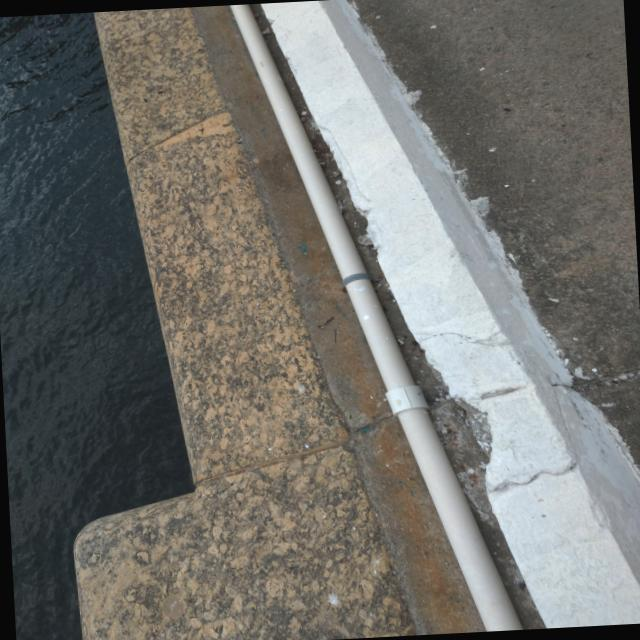gas: (228, 3, 521, 632)
